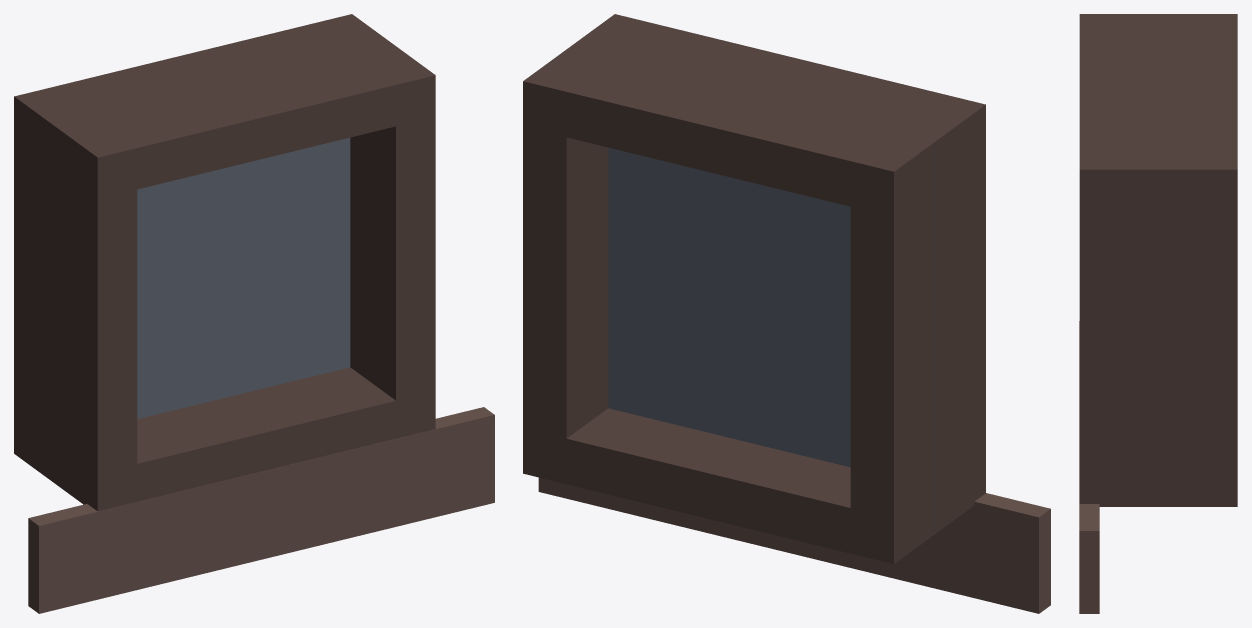
The model's file is SM_Env_Window_18.fbx.
3 renders of one model, left to right at view 1: azimuth 30°, elevation 25°; view 2: azimuth 150°, elevation 25°; view 3: azimuth 270°, elevation 25°, orthographic. The views are drawn at different scales.
Parts seen in each view (by area): view 1: SM_Env_Window_18; view 2: SM_Env_Window_18; view 3: SM_Env_Window_18.
Part boxes in pixels (box(x1,y1,x2,y2)): SM_Env_Window_18: box(14, 14, 494, 613); SM_Env_Window_18: box(523, 14, 1050, 613); SM_Env_Window_18: box(1079, 14, 1237, 613).
Size of the model in its own units: 99.6 by 92.27 by 31.76.
1 material, 1 textured.
